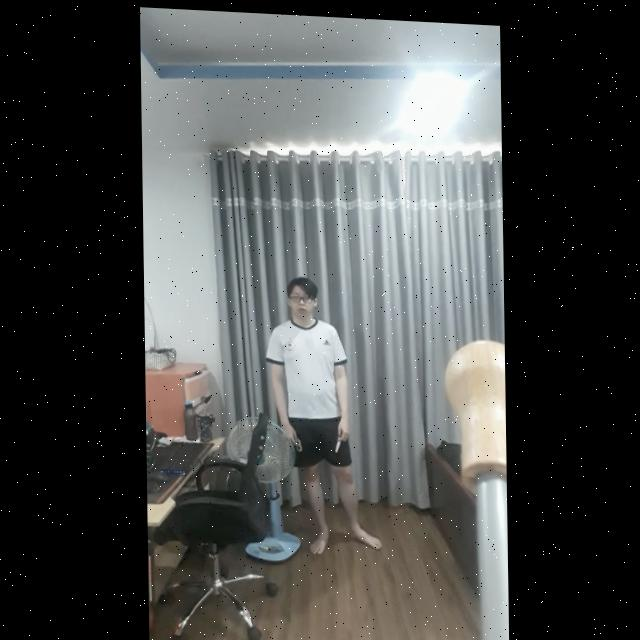cigarette: (334, 434, 340, 449)
